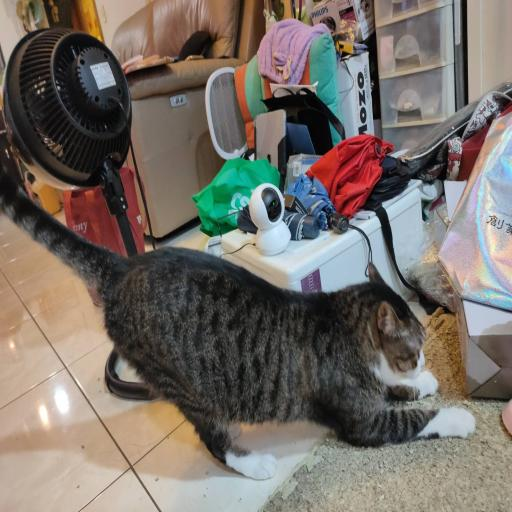cat: (82, 246, 476, 460)
